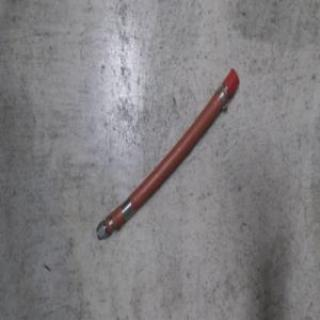Hosetrack_idkeyframe: (93, 64, 242, 242)
